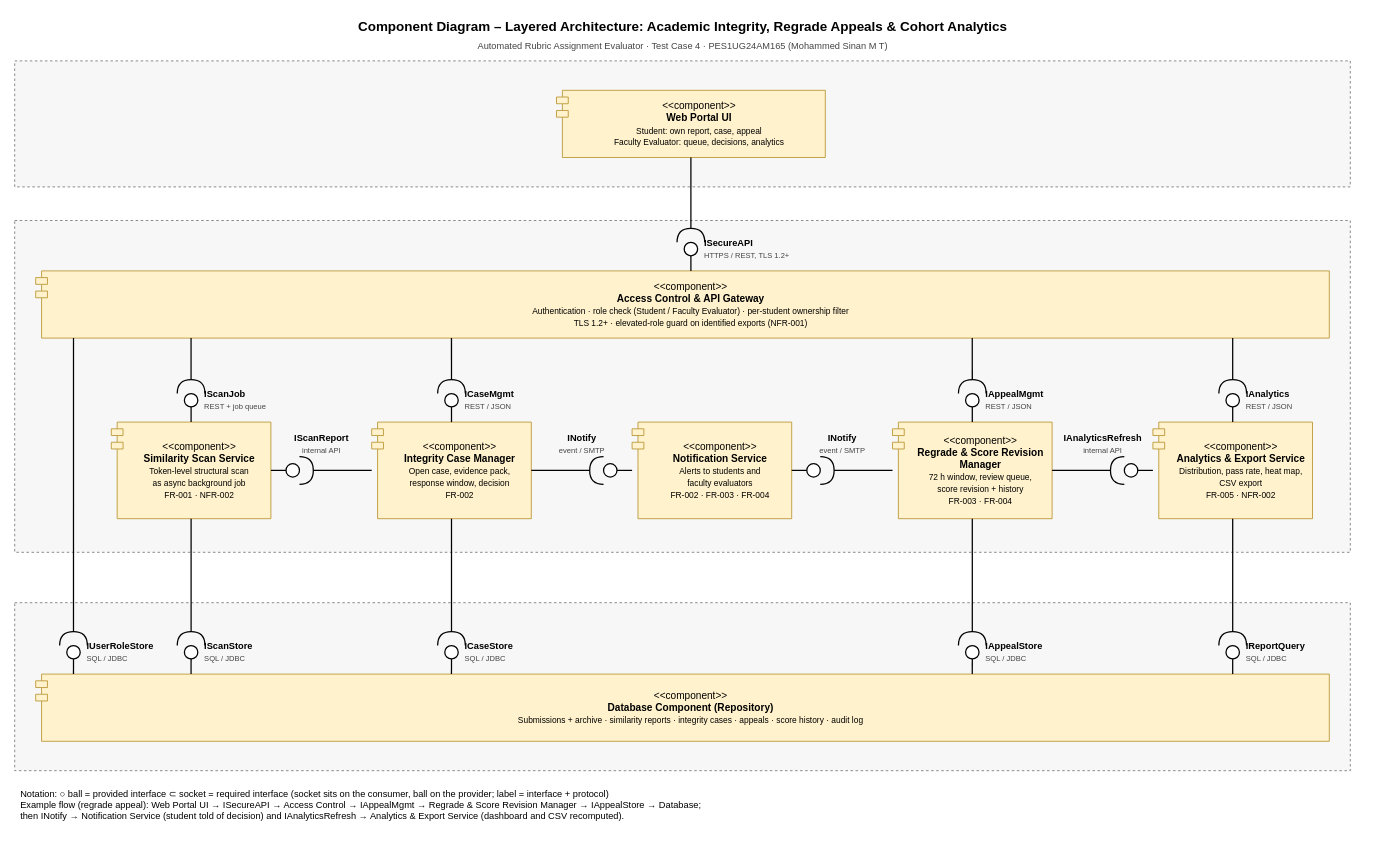
Image size: 1385x856. Some labels were removed from this diagram. Each missing label, with the box of its shape:
«layer» Business Layer: (14, 220, 1350, 552)
«layer» Data Layer: (14, 602, 1350, 771)
«layer» Presentation Layer: (14, 60, 1350, 187)
